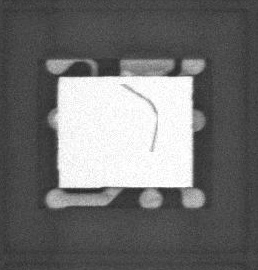DIE_INK: (114, 88, 150, 158)
